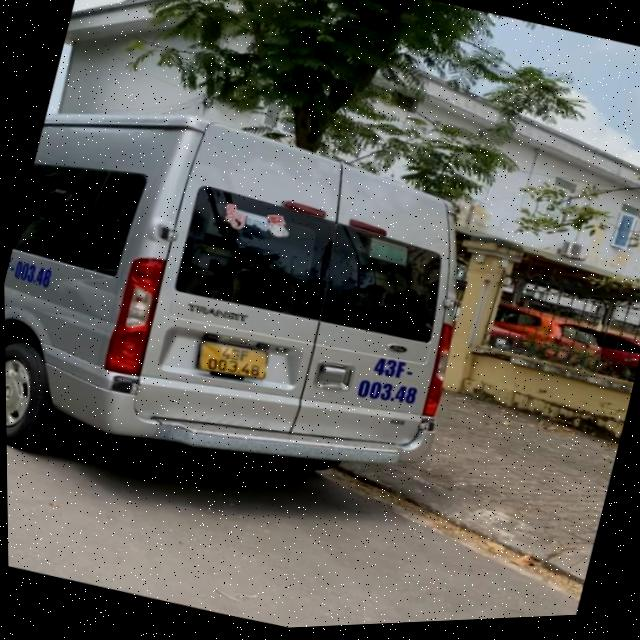car: (1, 76, 490, 542)
plate: (187, 328, 277, 394)
